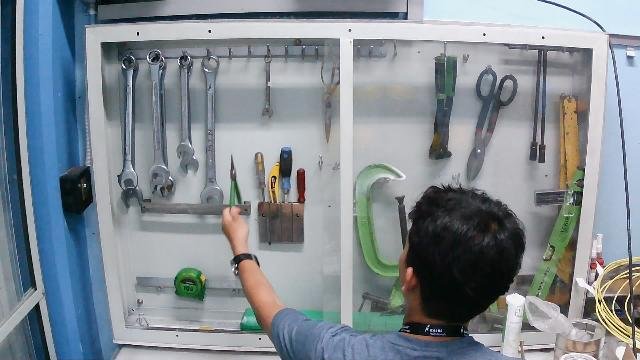tang_cucut_lancip_2: (220, 149, 250, 233)
